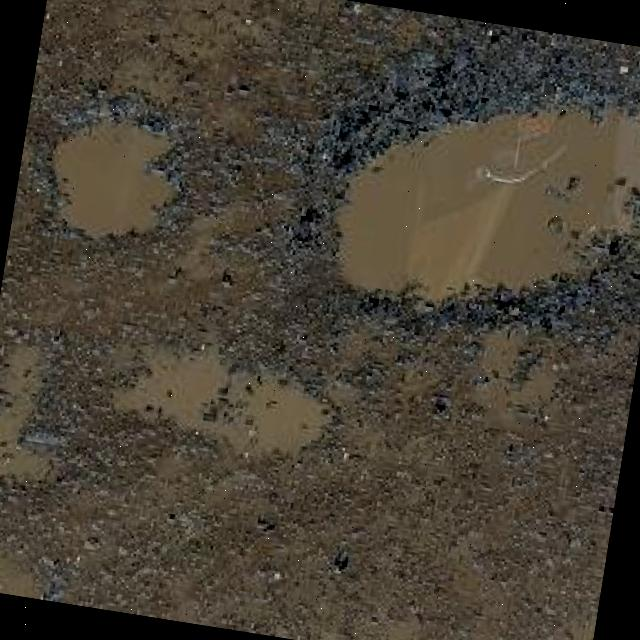stagnation: (338, 42, 640, 312), (42, 100, 222, 262), (134, 346, 340, 462)
